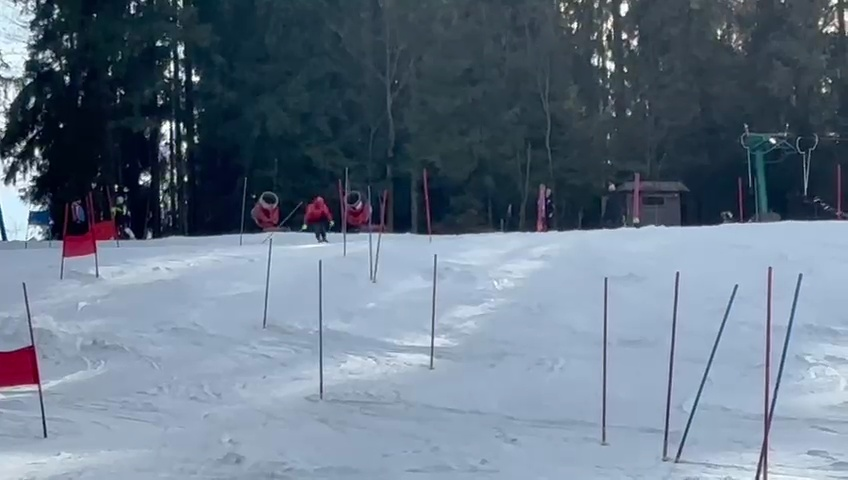gate: (674, 272, 746, 463), (754, 263, 804, 480), (0, 280, 46, 444), (16, 279, 56, 441), (662, 265, 681, 463), (595, 269, 614, 449), (312, 257, 332, 403), (425, 250, 444, 371), (369, 183, 390, 288), (362, 187, 380, 287), (82, 192, 102, 278), (259, 232, 276, 332), (419, 166, 437, 241), (57, 196, 73, 278), (234, 175, 250, 247), (337, 173, 351, 254), (0, 150, 11, 246), (361, 217, 374, 285), (834, 160, 846, 222), (733, 175, 747, 228)
